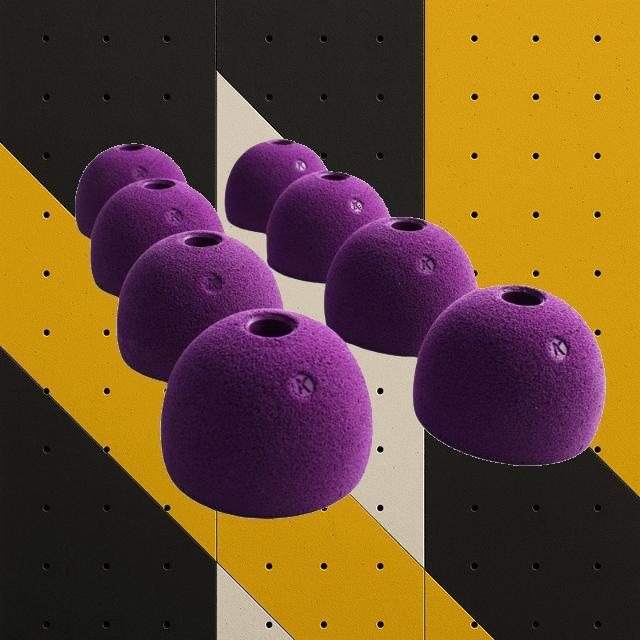Sloper: (159, 307, 373, 519), (412, 282, 606, 466), (116, 228, 284, 382), (322, 215, 478, 357), (88, 176, 224, 296), (264, 169, 390, 283), (74, 142, 186, 238), (224, 137, 328, 233)
